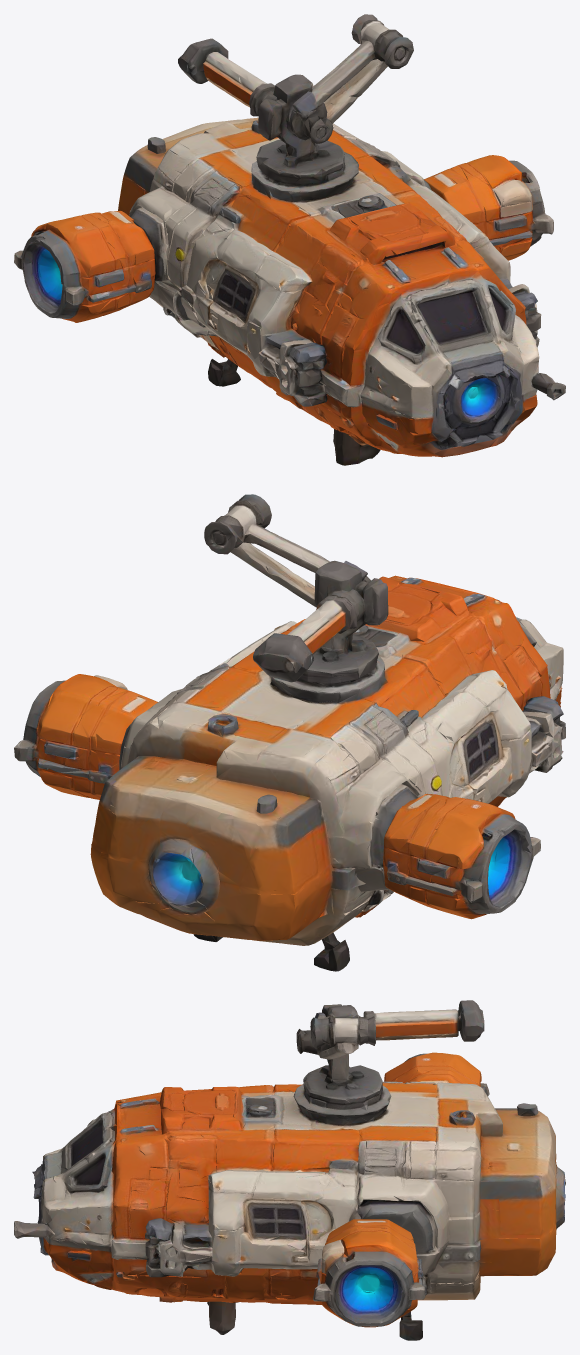
Rendered from vaisseau.glb.
The picture shows the model from 3 angles, top to bottom: view 1: azimuth 30°, elevation 25°; view 2: azimuth 150°, elevation 25°; view 3: azimuth 270°, elevation 25°; orthographic projection. The views are drawn at different scales.
Bounding box in the file's own units: 0.8452 × 0.6485 × 0.9792.
1 material, 1 textured.
